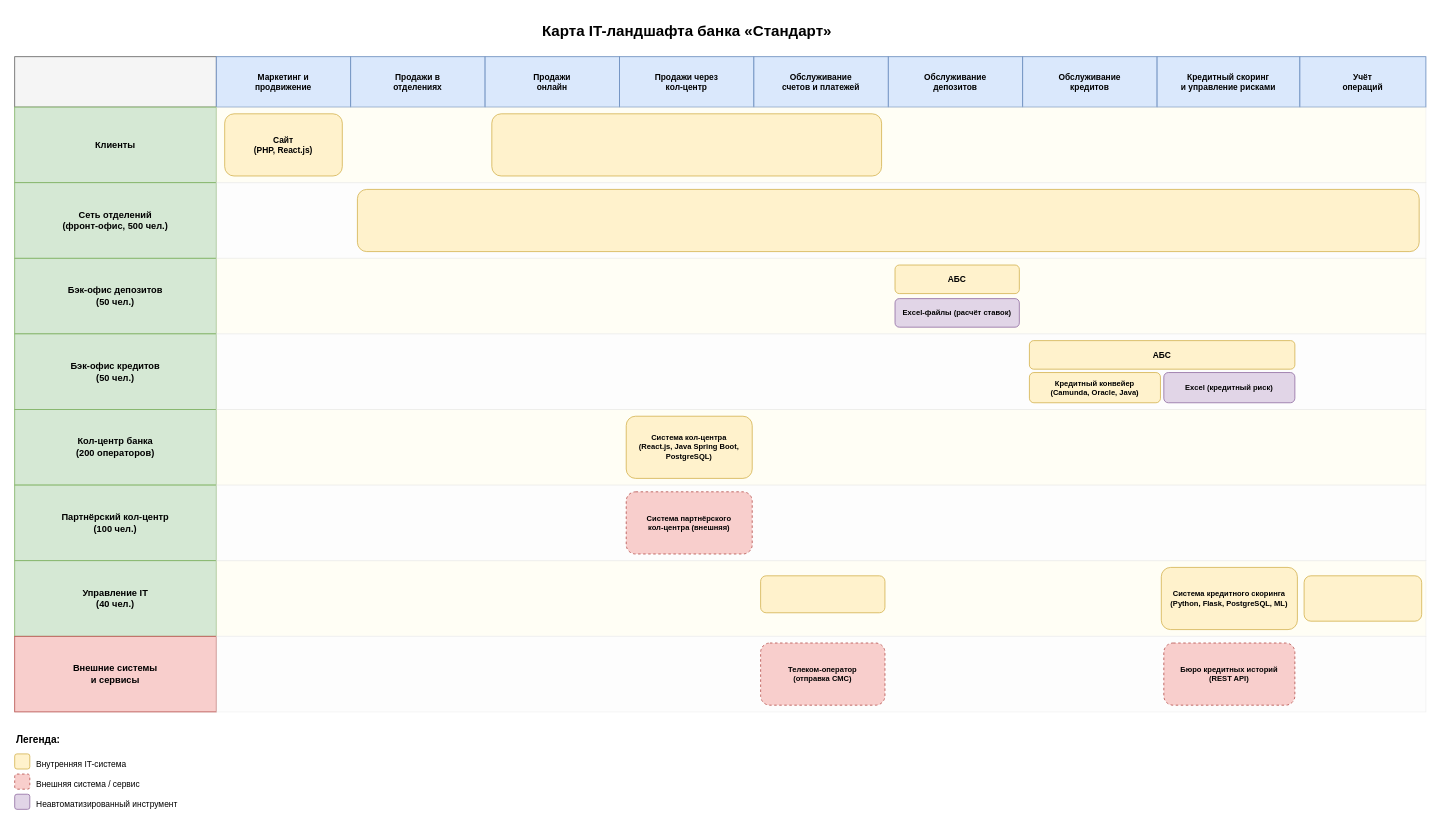
Some shapes in this 1441 by 824 pixel diagram are drawn without their labels. The box of each missing label's shape, as (x1, y1, x2, y2) in pixels:
АБС (Delphi desktop, Oracle, PL/SQL): (357, 189, 1419, 252)
АБС (сопровождение): (1303, 575, 1422, 621)
Интернет-банк (ASP.NET MVC 4.5, MS SQL): (491, 113, 882, 176)
Орг. единицы / Бизнес-возможности: (14, 56, 216, 107)
СМС-шлюз: (760, 575, 885, 613)
